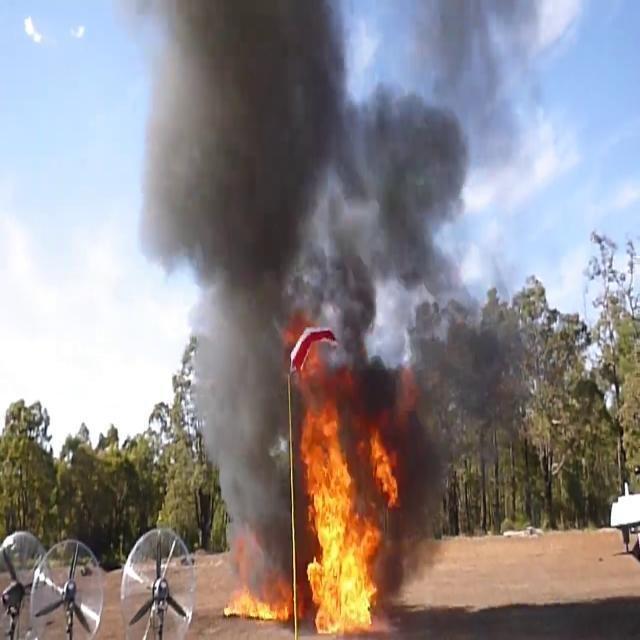Fire: (292, 390, 396, 634), (220, 576, 290, 630)
Smoke: (132, 1, 502, 540)
